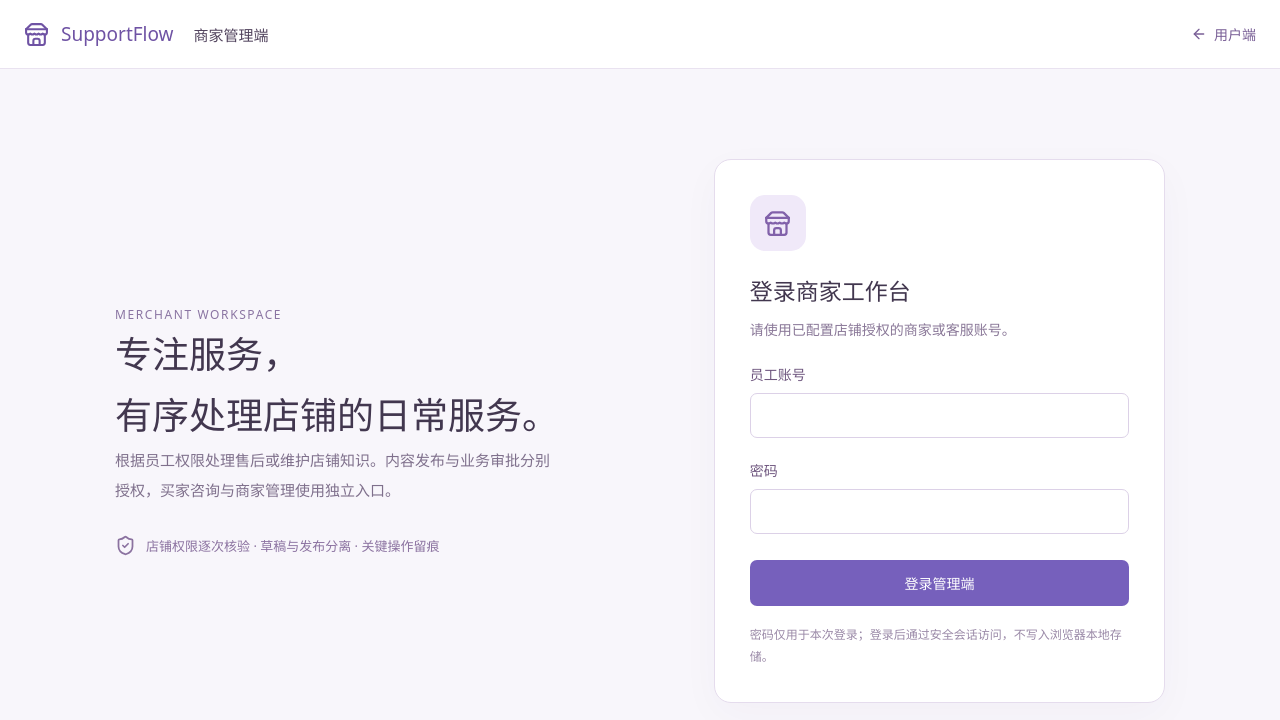
Test: MerchantApp › rejects buyer accounts and clears the password field
Type "staff" into the field with test id "merchant-username". click: (939, 416)
box: x1=750 y1=393 x2=1129 y2=438
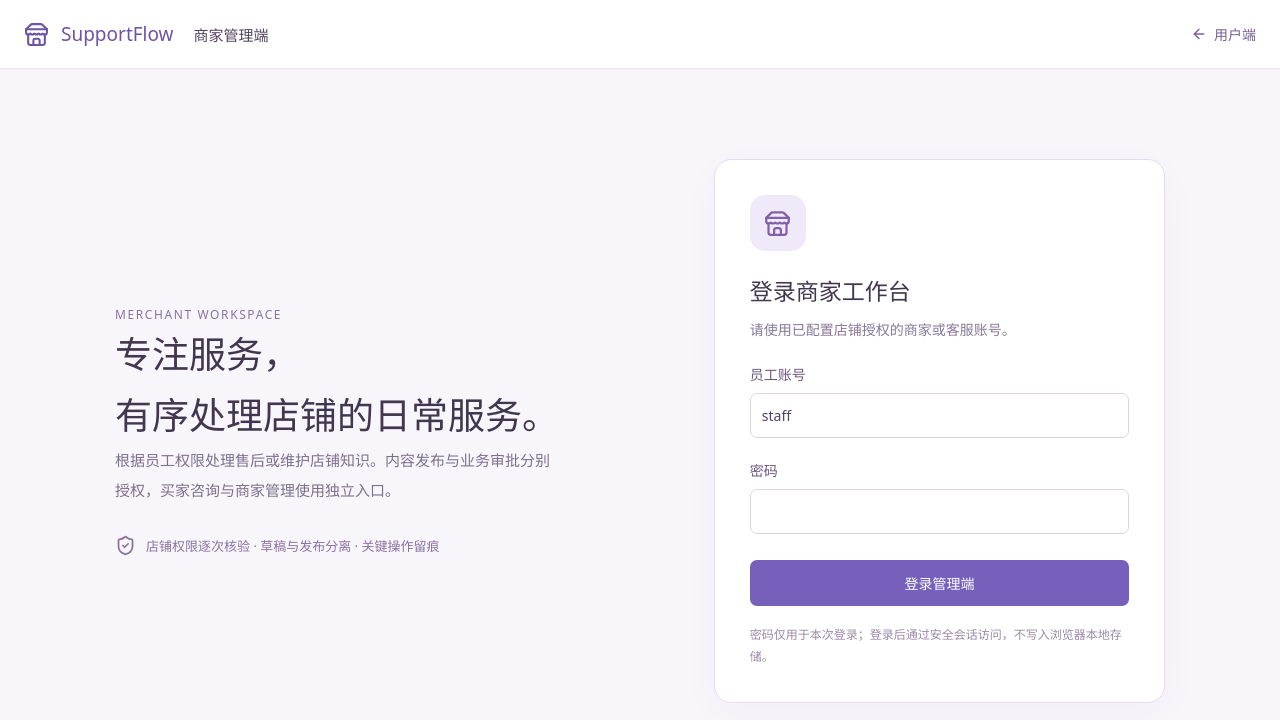
Type "test" into the password field with test id "merchant-password". click: (939, 512)
box: x1=750 y1=489 x2=1129 y2=534
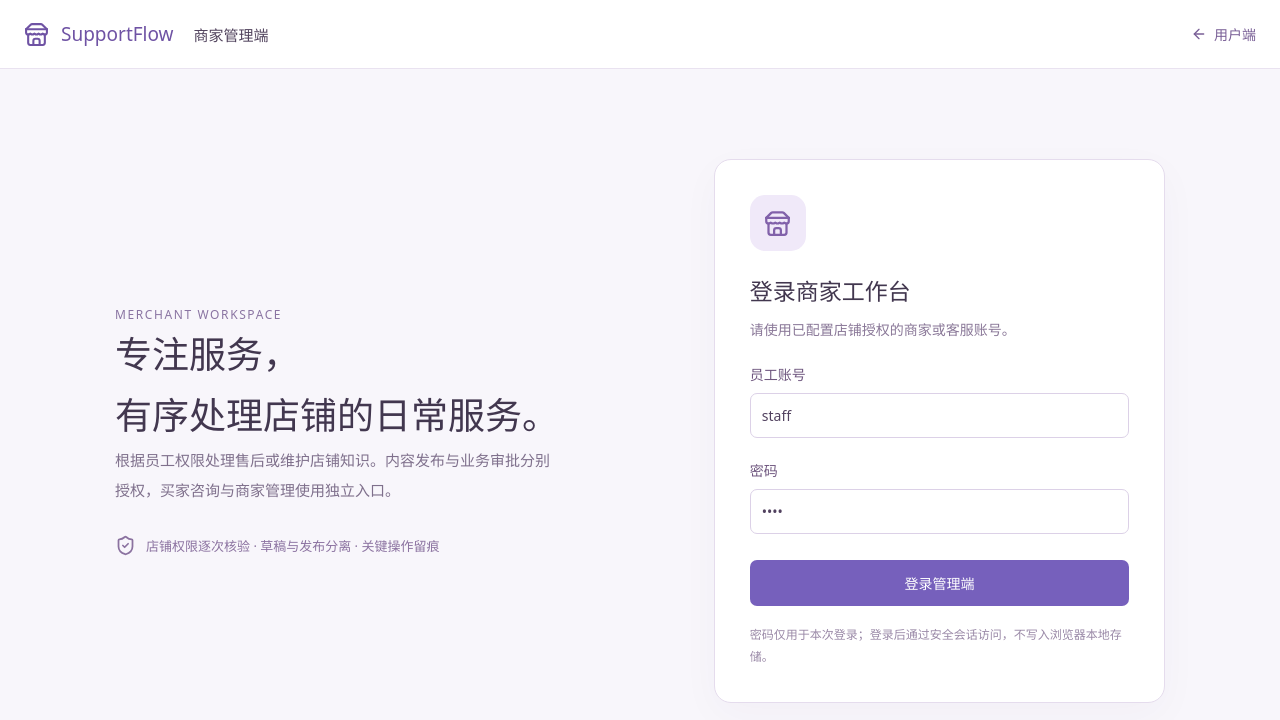
Submit the form with test id "merchant-login", box x1=714 y1=159 x2=1165 y2=703
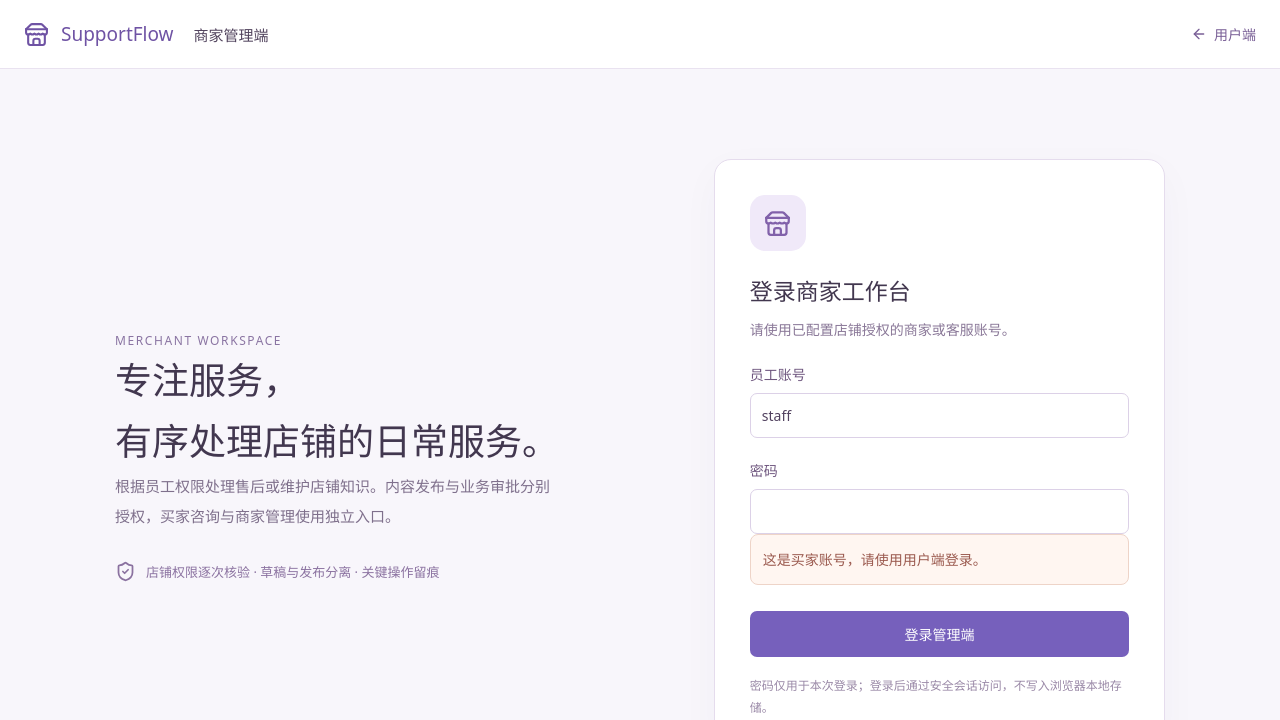
Result: the message "这是买家账号，请使用用户端登录。" is shown at x1=750 y1=534 x2=1129 y2=585
Result: the password field with test id "merchant-password" is empty at x1=750 y1=489 x2=1129 y2=534
